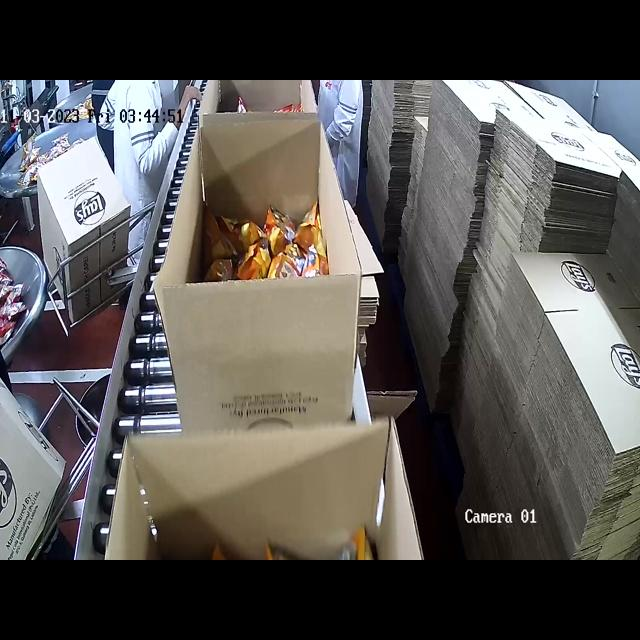cheese: (189, 212, 338, 278), (185, 537, 375, 560)
